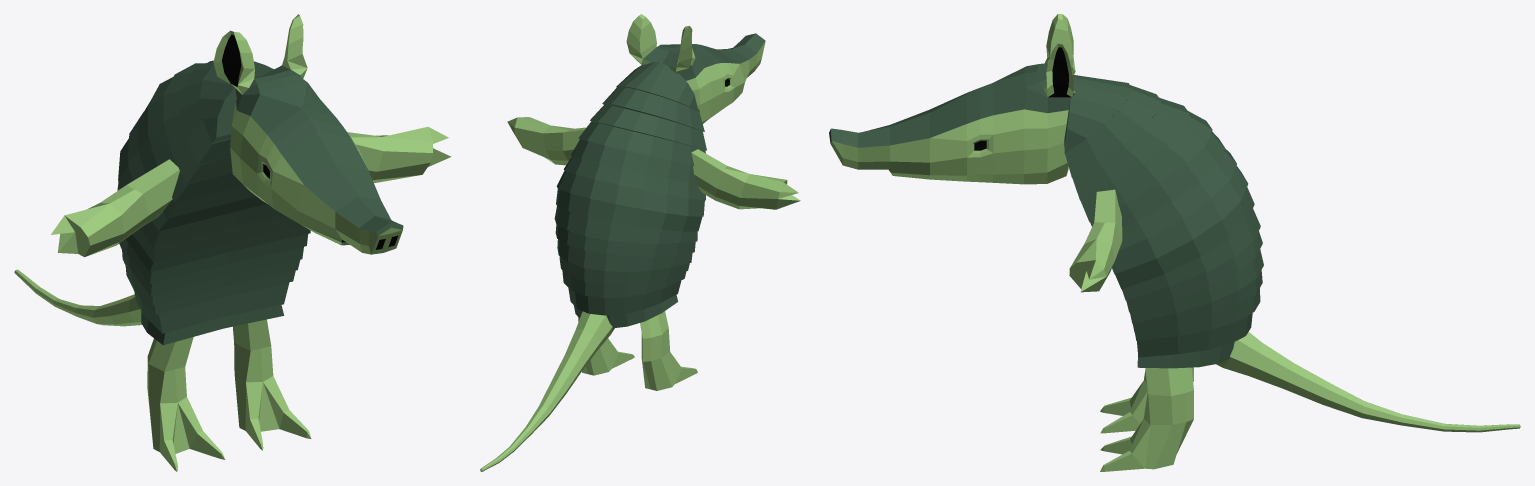
The model's file is Bill.fbx.
3 renders of one model, left to right at view 1: azimuth 30°, elevation 25°; view 2: azimuth 150°, elevation 25°; view 3: azimuth 270°, elevation 25°, orthographic. The views are drawn at different scales.
Parts seen in each view (by area): view 1: polySurface16, polySurface14, polySurface19, polySurface17, polySurface18, polySurface20, polySurface15; view 2: polySurface16, polySurface14, polySurface19, polySurface15, polySurface17, polySurface20, polySurface18; view 3: polySurface16, polySurface14, polySurface15, polySurface18, polySurface20, polySurface17.
Boxes of the visible parts, <box> form: polySurface16: <box>117,60,310,345</box>; polySurface14: <box>213,14,403,254</box>; polySurface19: <box>51,159,179,257</box>; polySurface17: <box>147,337,225,471</box>; polySurface18: <box>233,319,311,450</box>; polySurface20: <box>347,126,451,183</box>; polySurface15: <box>14,269,141,326</box>; polySurface16: <box>554,62,706,328</box>; polySurface14: <box>626,14,765,123</box>; polySurface19: <box>691,149,800,209</box>; polySurface15: <box>480,311,614,471</box>; polySurface17: <box>640,311,697,390</box>; polySurface20: <box>507,117,586,165</box>; polySurface18: <box>578,317,634,375</box>; polySurface16: <box>1064,75,1263,368</box>; polySurface14: <box>829,14,1075,184</box>; polySurface15: <box>1216,332,1520,432</box>; polySurface18: <box>1100,367,1193,471</box>; polySurface20: <box>1069,189,1122,292</box>; polySurface17: <box>1100,367,1193,433</box>.
Bounding box in the file's own units: 2.62 × 2.82 × 4.28.
